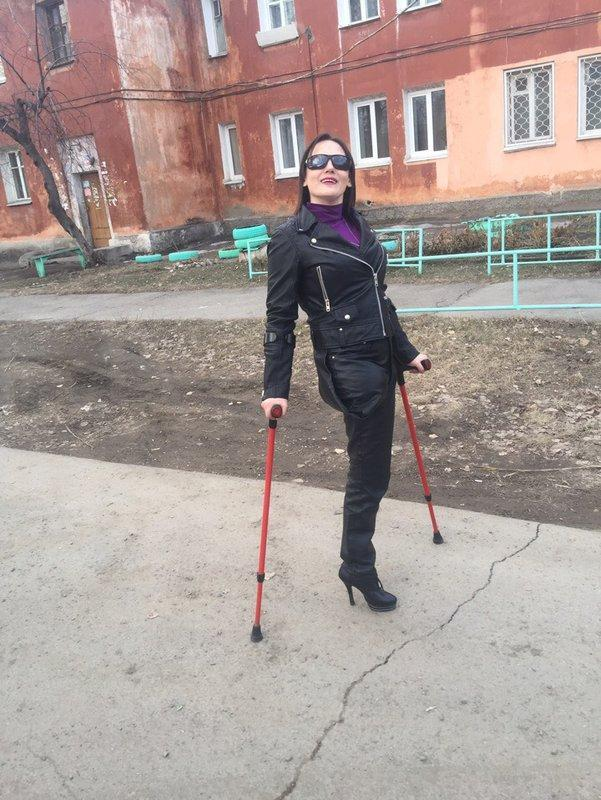crutches: (211, 86, 458, 658)
